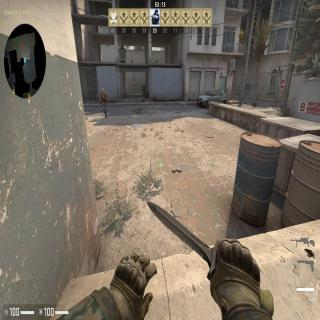T-Body: (100, 88, 108, 118)
T-Head: (102, 89, 105, 93)
